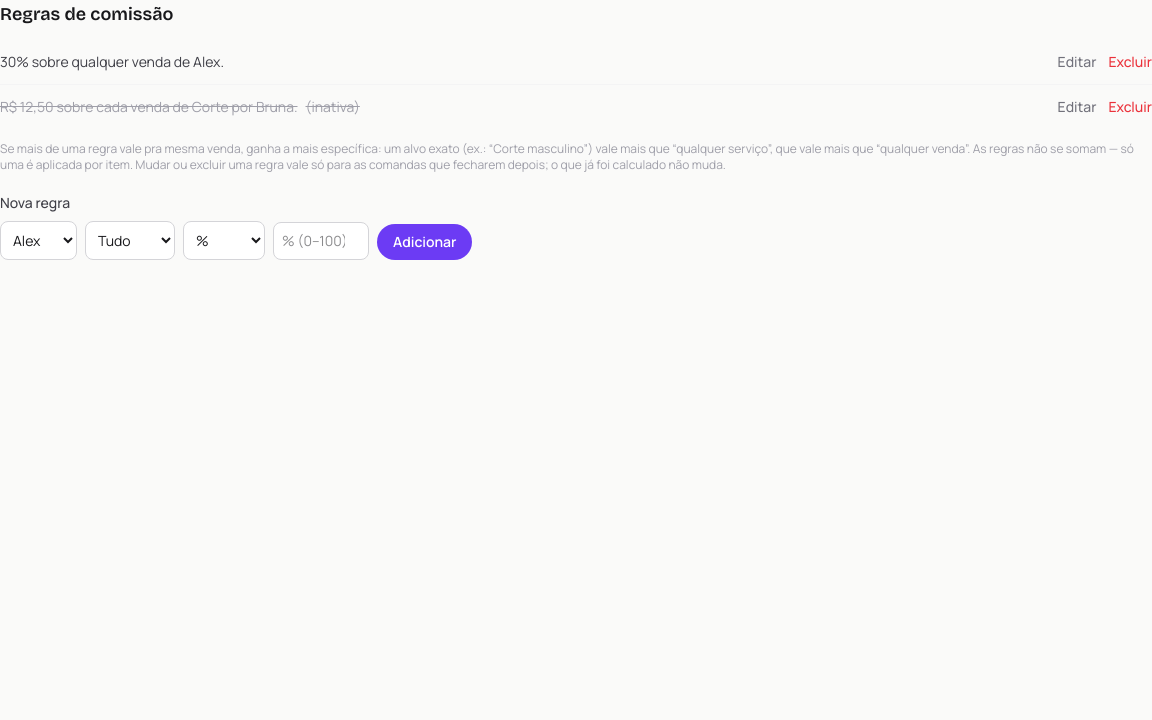
ComissoesView: editar e excluir regras › erro ao excluir fica visível dentro do diálogo
The image size is (1152, 720).
Click the button "Excluir" in the row of "30% sobre qualquer venda de Alex.".
click(1130, 62)  # box x1=1108 y1=52 x2=1151 y2=72
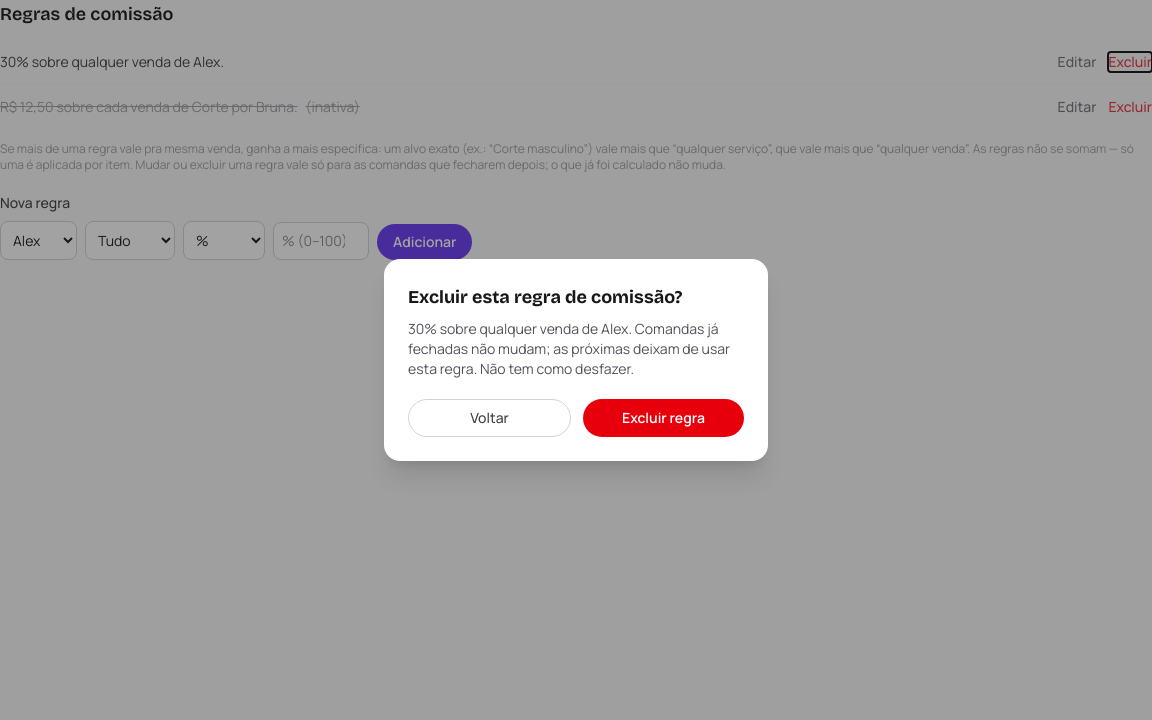
Click the button "Excluir regra".
click(664, 418)  # box x1=583 y1=399 x2=744 y2=437
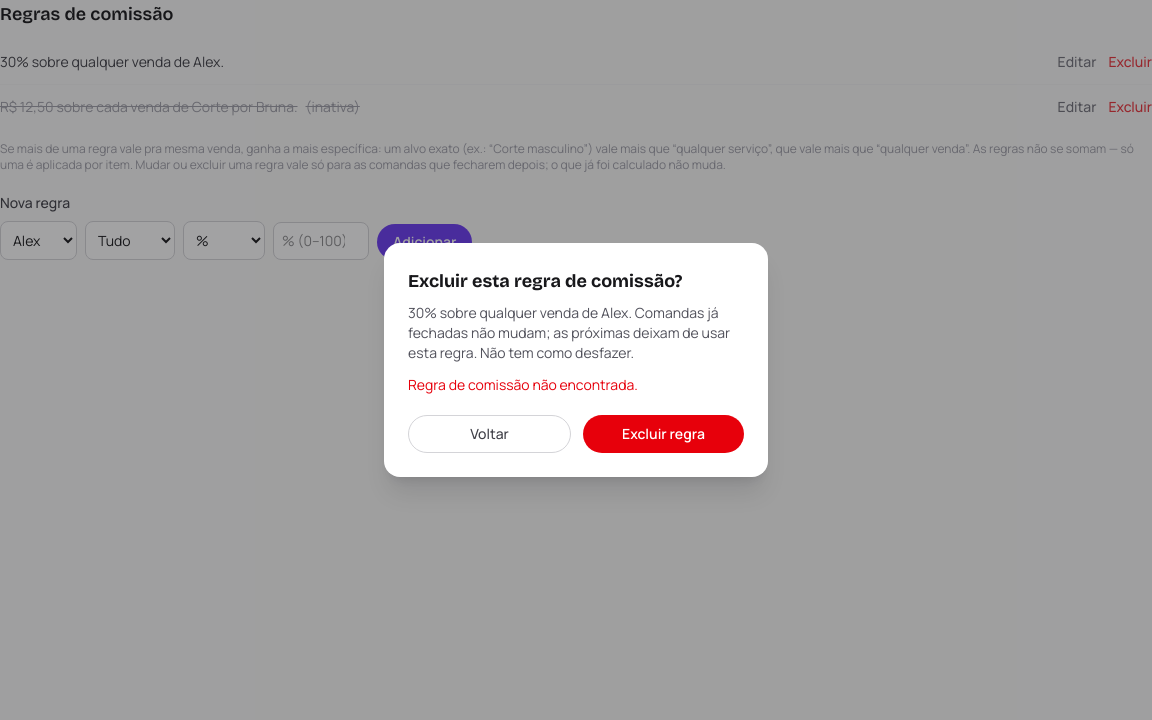
Expected: the text "Regra de comissão não encontrada." is shown, x1=408 y1=375 x2=638 y2=394
